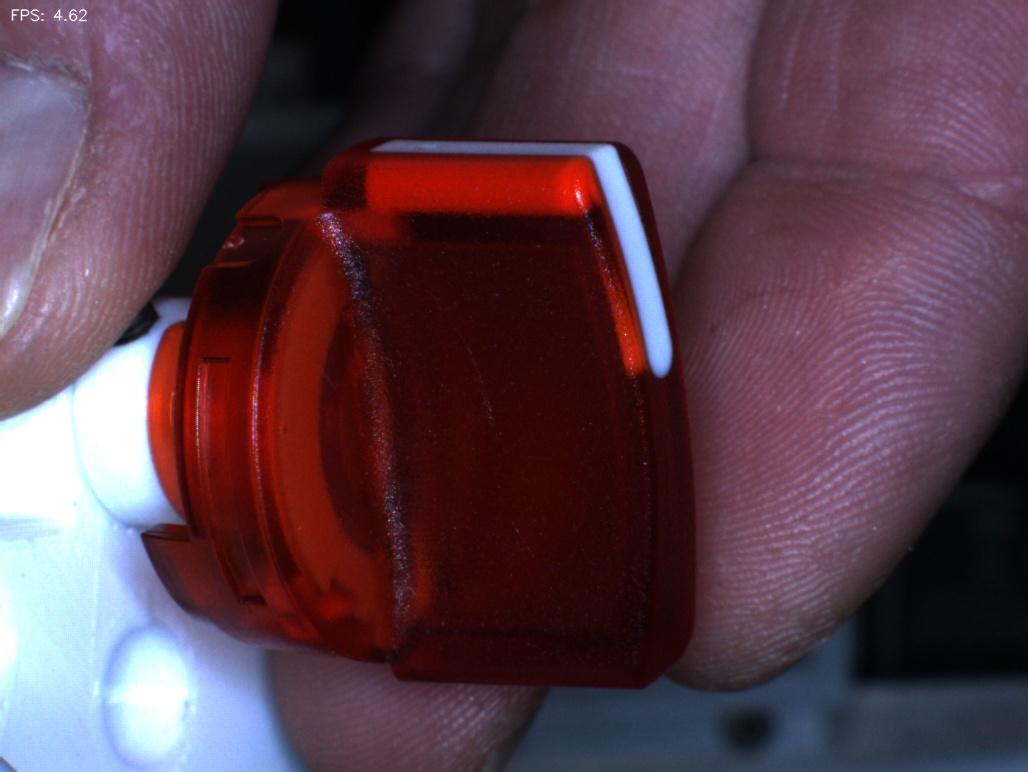Givrage: (435, 310, 517, 451)
